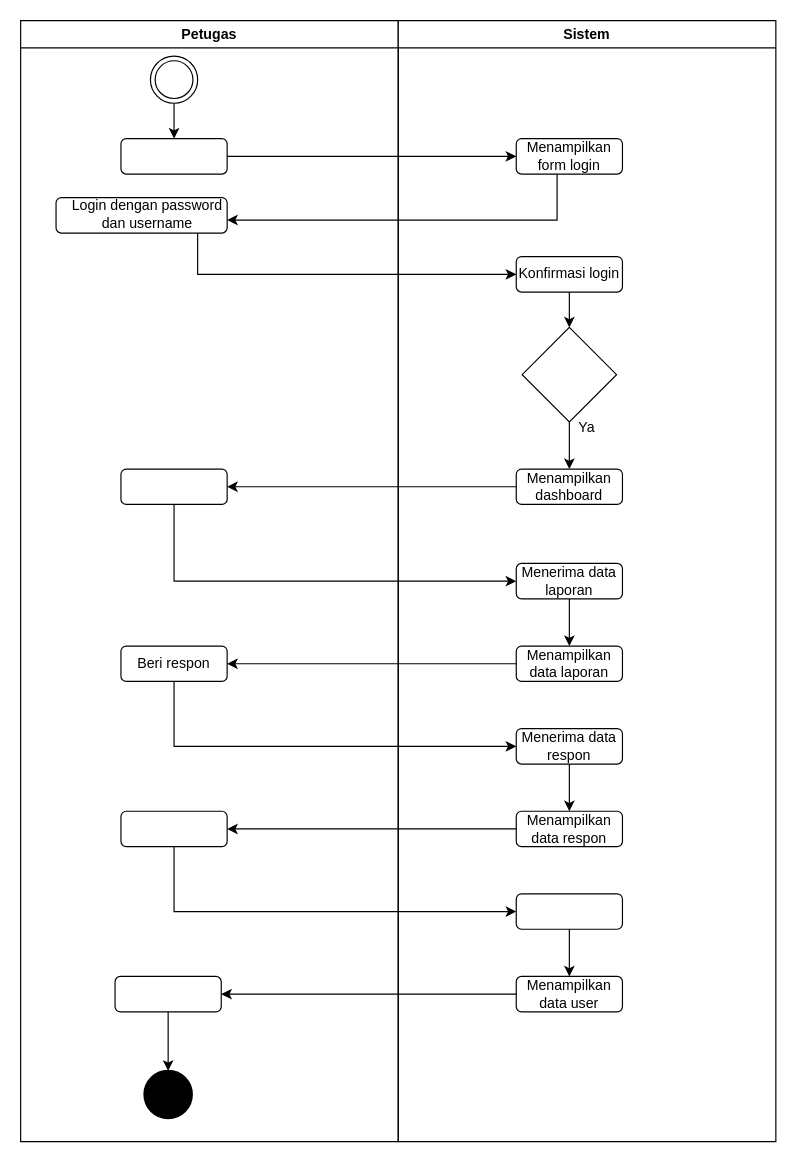
The diagram is 796 pixels wide and 1162 high, and some of its shapes have lost their labels. Each missing label, with the centre of its shape:
"Akses Website" belongs at [173,155].
"Kelola data laporan" belongs at [173,486].
"Kelola data user" belongs at [173,828].
"Logout" belongs at [167,993].
"Menerima data user" belongs at [568,911].
"Sesuai?" belongs at [569,374].
